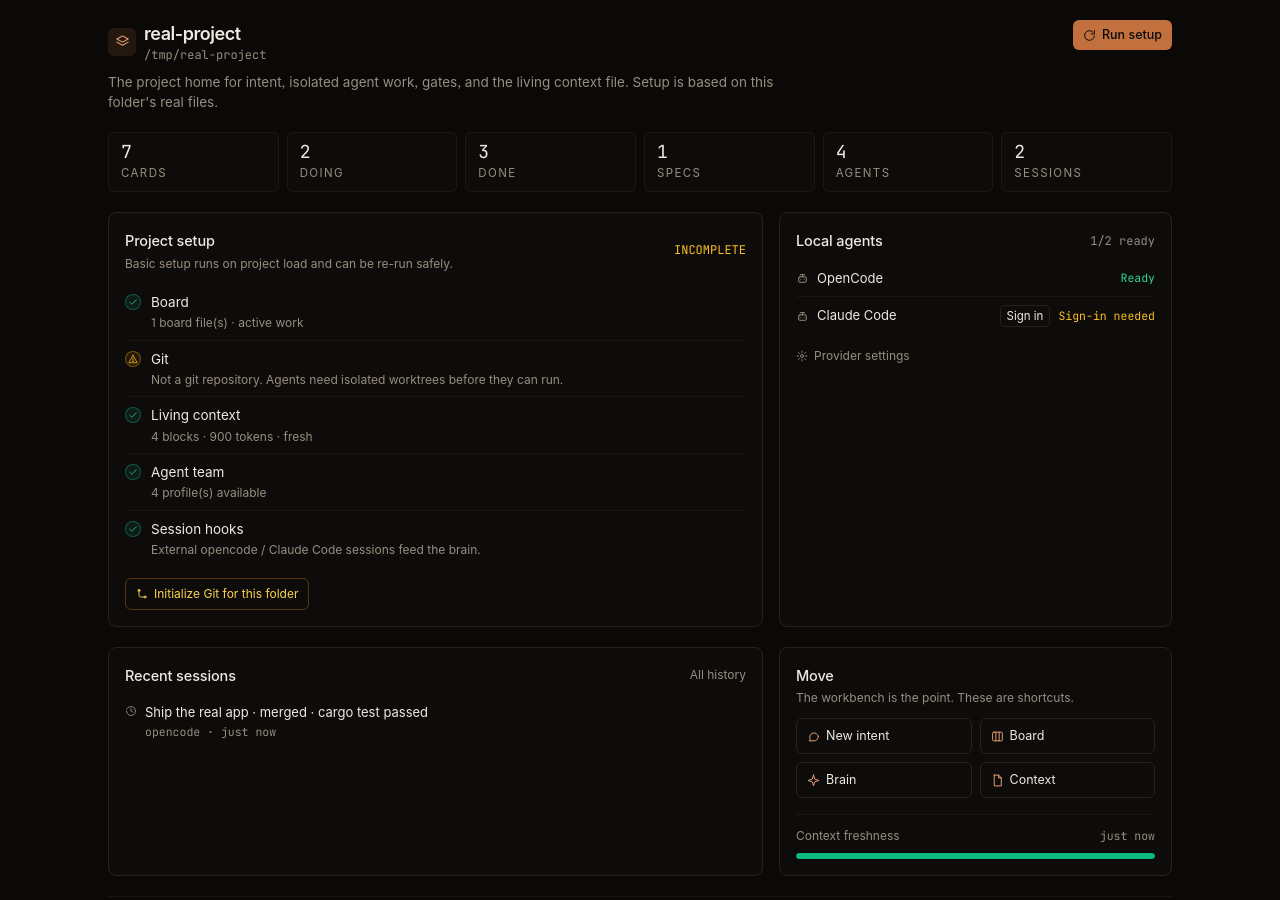
WorkspaceView › offers git initialization for a non-git folder and runs it explicitly
Click the button "Initialize Git for this folder" at x=217, y=594, box [125,578,310,610]
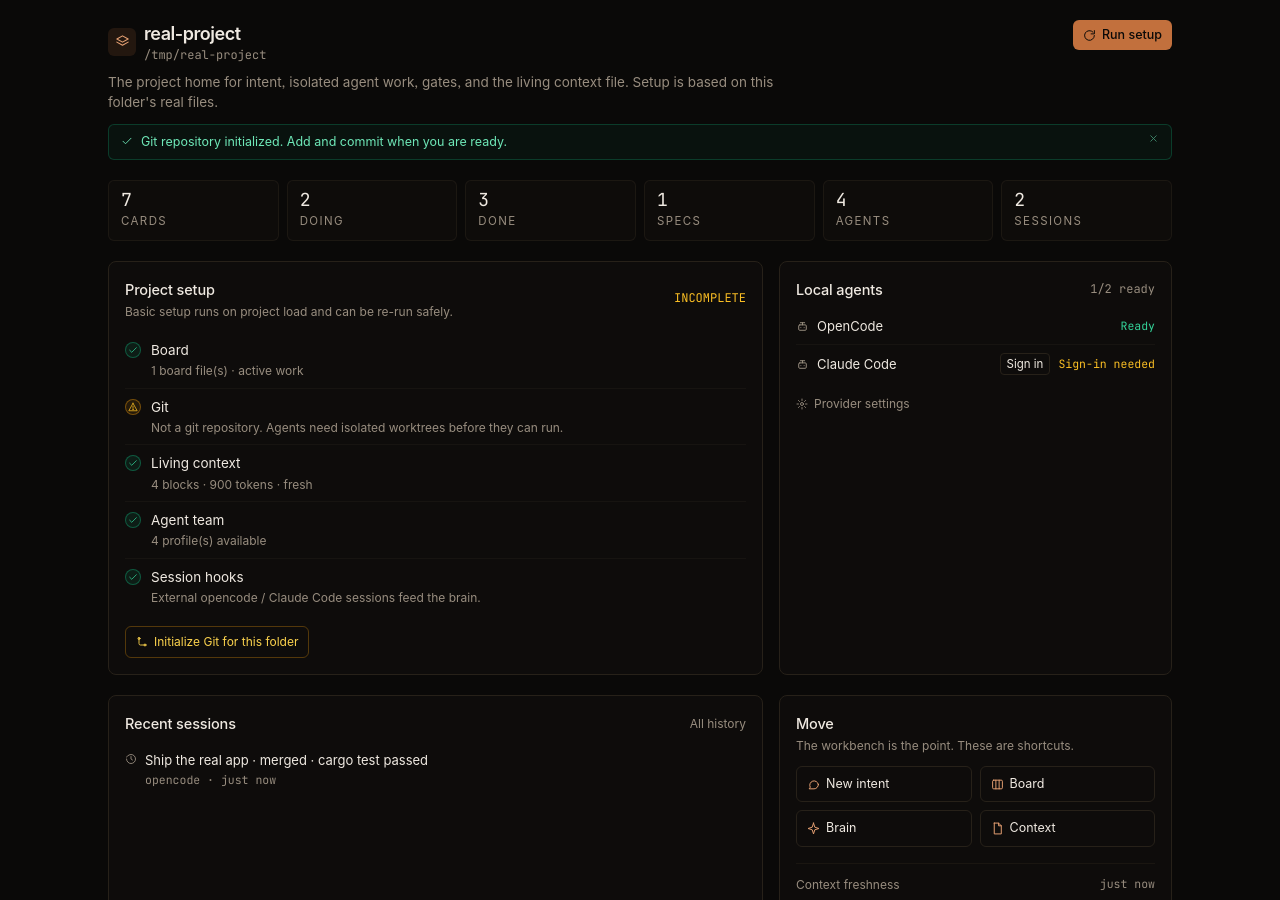
Expected: the text "Git repository initialized" is shown, [141,134,507,149]
